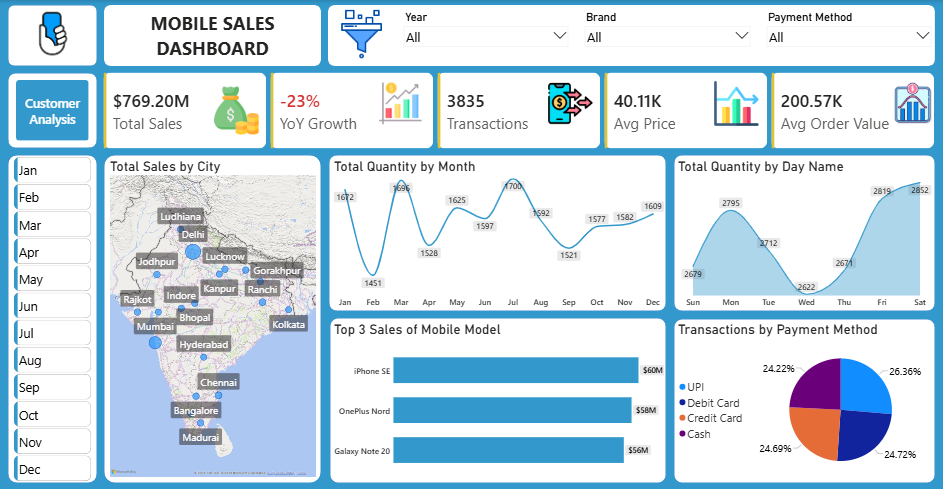

What the dashboard file says about the page in this screenshot:
{"tool":"powerbi","page":{"name":"Sales Overview","canvas":[2500,1300],"ordinal":0},"visuals":[{"type":"cardVisual","fields":{"Data":["Measure.Total Sales","Measure.YoY Growth","Measure.Total Transactions","Avg(Sheet1.Price Per Unit)","Measure.Avg Order Value"]},"box":[257.3,175.1,2241.8,236.1],"z":0},{"type":"shape","box":[870.2,13.3,1610.4,161.8],"z":1000},{"type":"shape","box":[275.9,411.2,575.7,870.2],"z":2000},{"type":"shape","box":[1788.2,411.2,692.4,413.9],"z":3000},{"type":"shape","box":[872.9,411.2,894.1,413.9],"z":4000},{"type":"shape","box":[875.5,843.7,891.4,437.8],"z":5000},{"type":"shape","box":[1788.2,846.3,692.4,435.1],"z":6000},{"type":"shape","box":[21.2,13.3,236.1,161.8],"z":7000},{"type":"lineChart","fields":{"Category":["Sheet1.Month Name"],"Y":["Measure.Total Quantity"]},"box":[880.8,419.2,886.1,405.9],"z":8000},{"type":"pieChart","title":"Transactions by Payment Method","fields":{"Category":["Sheet1.Payment Method"],"Y":["Measure.Total Transactions"]},"box":[1793.5,851.6,692.4,429.8],"z":9000},{"type":"map","fields":{"Size":["Measure.Total Sales"],"Category":["Sheet1.City"]},"box":[286.5,419.2,557.1,851.6],"z":10000},{"type":"slicer","fields":{"Values":["Sheet1.Year"]},"box":[1061.2,23.9,456.3,151.2],"z":11000},{"type":"slicer","fields":{"Values":["Sheet1.Brand"]},"box":[1541.4,23.9,459,151.2],"z":12000},{"type":"slicer","fields":{"Values":["Sheet1.Payment Method"]},"box":[2024.3,23.9,456.3,143.3],"z":13000},{"type":"image","box":[880.8,23.9,156.5,132.7],"z":14000},{"type":"shape","box":[275.9,13.3,575.7,161.8],"z":15000},{"type":"textbox","box":[275.9,23.9,575.7,151.2],"z":16000},{"type":"image","box":[21.2,13.3,236.1,161.8],"z":17000},{"type":"shape","box":[21.2,411.2,236.1,870.2],"z":18000},{"type":"areaChart","fields":{"Category":["Sheet1.Day Name"],"Y":["Measure.Total Quantity"]},"box":[1793.5,419.2,692.4,405.9],"z":19000},{"type":"barChart","title":"Top 3 Sales of Mobile Model","fields":{"Y":["Measure.Total Sales"],"Category":["Sheet1.Mobile Model"]},"box":[880.8,851.6,886.1,429.8],"z":20000},{"type":"shape","box":[21.2,193.7,236.1,199],"z":21000},{"type":"pageNavigator","box":[42.4,212.2,193.7,161.8],"z":22000},{"type":"image","box":[1444,215.5,140.1,118.5],"z":23000},{"type":"image","box":[1883.1,215.5,140.1,118.5],"z":24000},{"type":"image","box":[557.7,220.9,140.1,145.5],"z":26000},{"type":"advancedSlicerVisual","fields":{"Values":["Sheet1.Month Name"]},"box":[32.3,412.2,215.5,875.5],"z":27000},{"type":"image","box":[2365.3,212.8,113.1,123.9],"z":27003},{"type":"image","box":[991.4,215.5,140.1,118.5],"z":27004}]}

Visuals, with their boxes in screenshot pixels (x1, y1, x2, y2), scaled from the page's 2500x1300 canvas onto the 943x489 screenshot:
cardVisual - Measure.Total Sales x Measure.YoY Growth: [97, 66, 942, 155]
shape: [328, 5, 936, 66]
shape: [104, 155, 321, 482]
shape: [675, 155, 936, 310]
shape: [329, 155, 667, 310]
shape: [330, 317, 666, 482]
shape: [675, 318, 936, 482]
shape: [8, 5, 97, 66]
lineChart - Sheet1.Month Name x Measure.Total Quantity: [332, 158, 666, 310]
"Transactions by Payment Method" pieChart: [677, 320, 938, 482]
map - Measure.Total Sales x Sheet1.City: [108, 158, 318, 478]
slicer - Sheet1.Year: [400, 9, 572, 66]
slicer - Sheet1.Brand: [581, 9, 755, 66]
slicer - Sheet1.Payment Method: [764, 9, 936, 63]
image: [332, 9, 391, 59]
shape: [104, 5, 321, 66]
textbox: [104, 9, 321, 66]
image: [8, 5, 97, 66]
shape: [8, 155, 97, 482]
areaChart - Sheet1.Day Name x Measure.Total Quantity: [677, 158, 938, 310]
"Top 3 Sales of Mobile Model" barChart: [332, 320, 666, 482]
shape: [8, 73, 97, 148]
pageNavigator: [16, 80, 89, 141]
image: [545, 81, 598, 126]
image: [710, 81, 763, 126]
image: [210, 83, 263, 138]
advancedSlicerVisual - Sheet1.Month Name: [12, 155, 93, 484]
image: [892, 80, 935, 127]
image: [374, 81, 427, 126]
